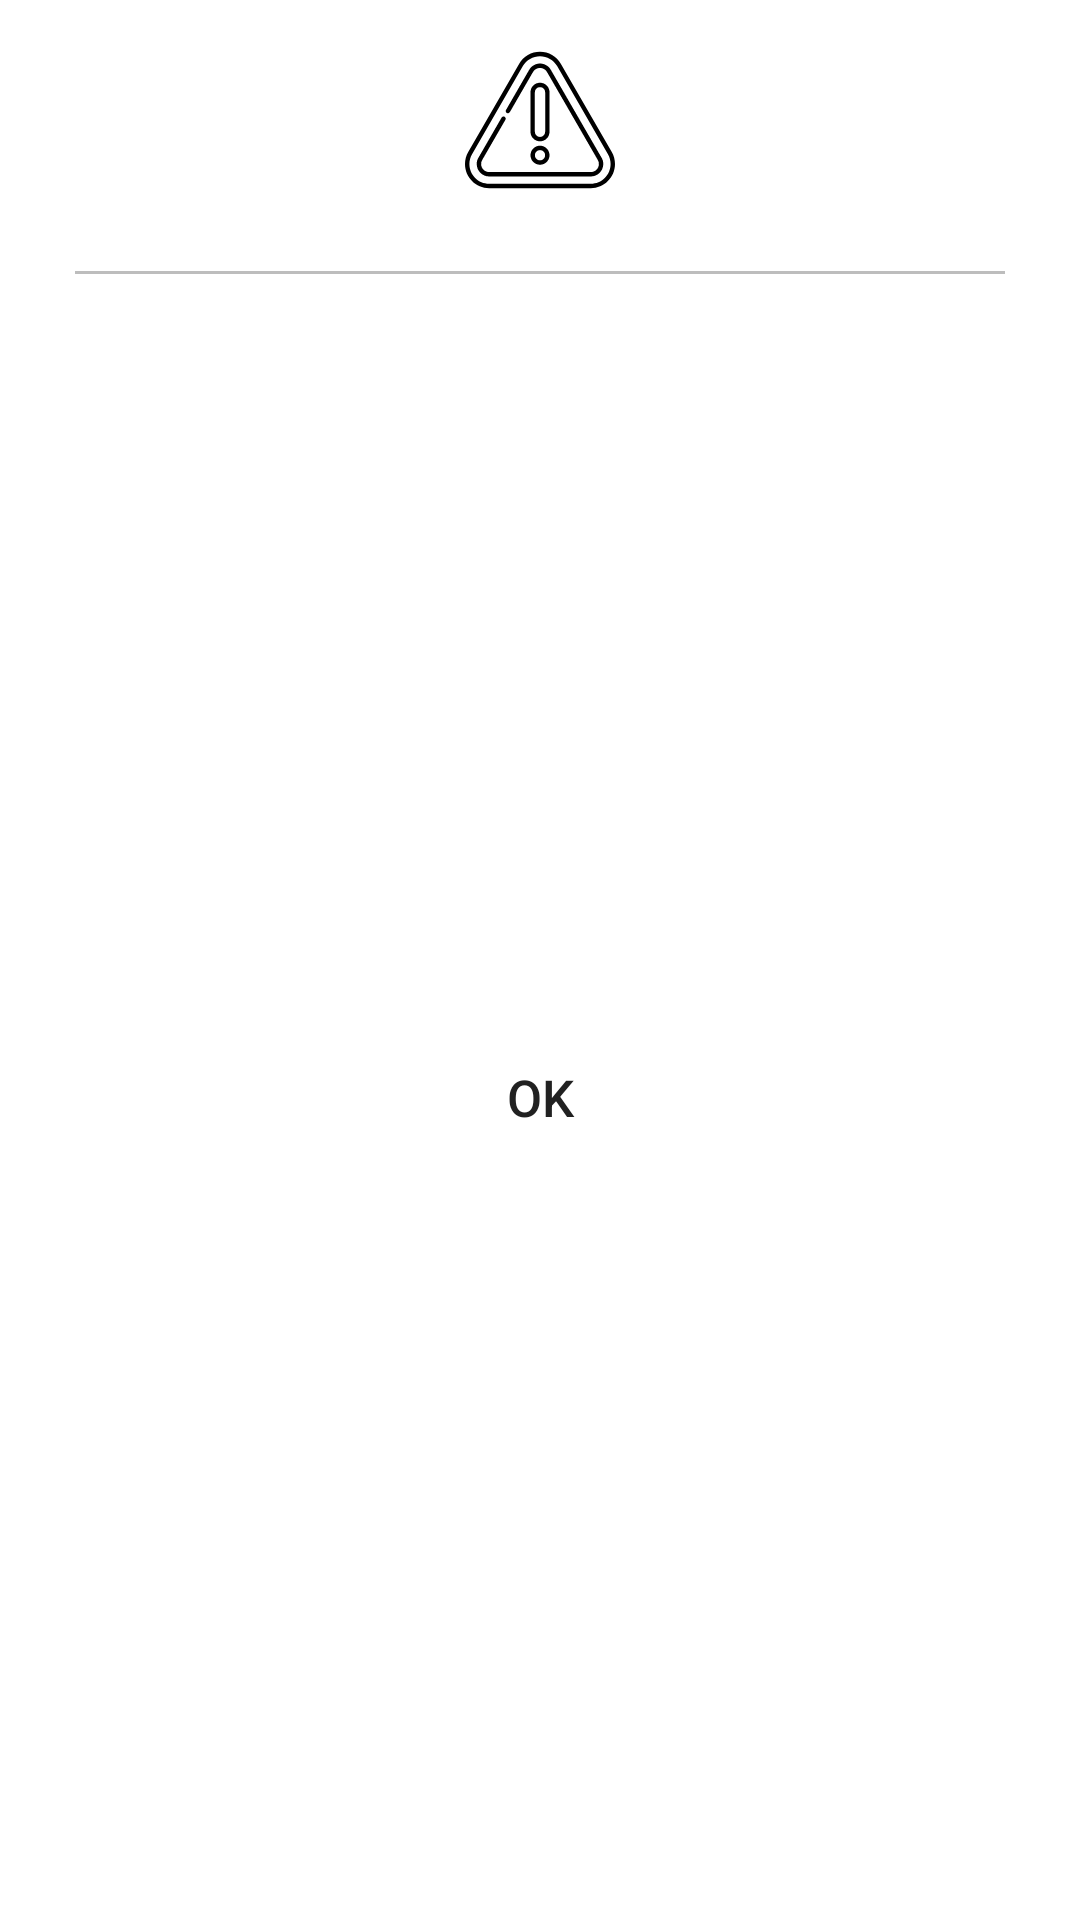

Screen size 1080px x 1920px. Icon name, then its center in pixels as [x,y]:
warning: [540,120]
